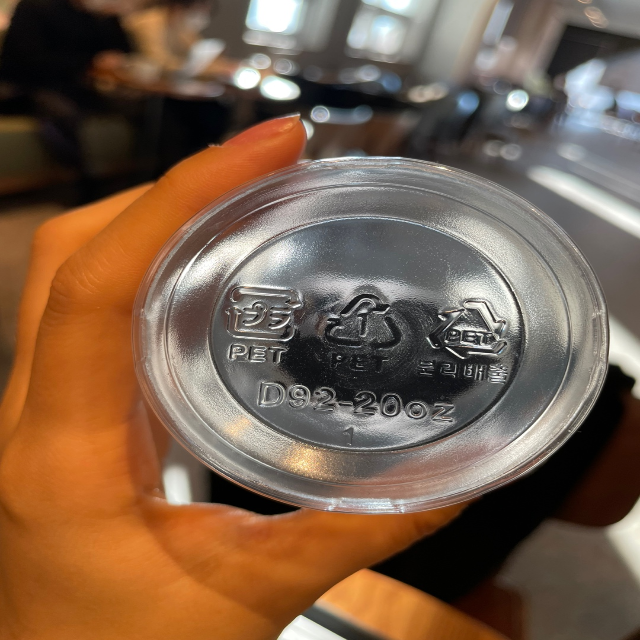pet: (416, 292, 515, 386), (320, 286, 404, 376), (221, 280, 304, 366)
